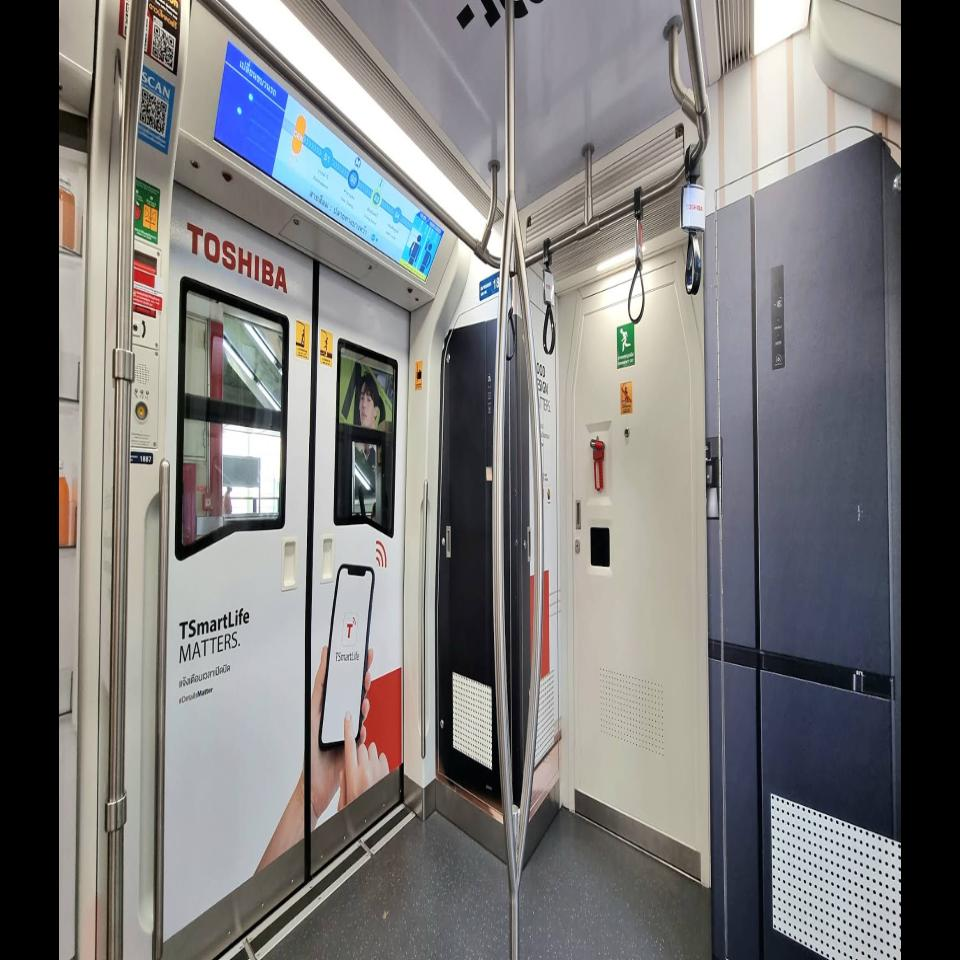signage: (285, 114, 307, 176)
